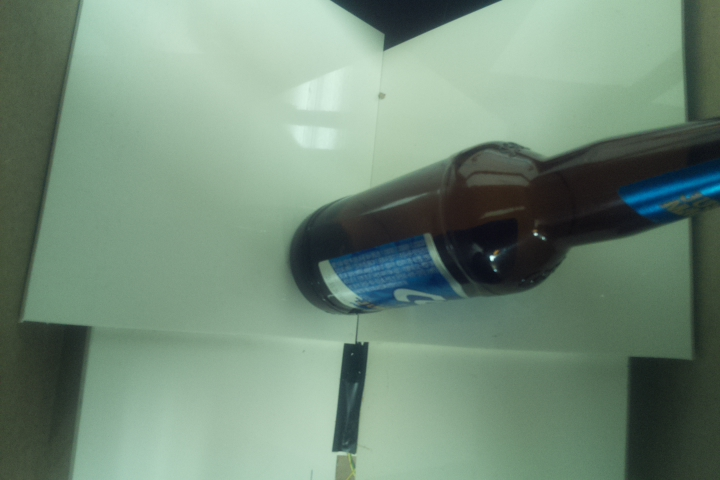makju: (288, 112, 720, 317)
